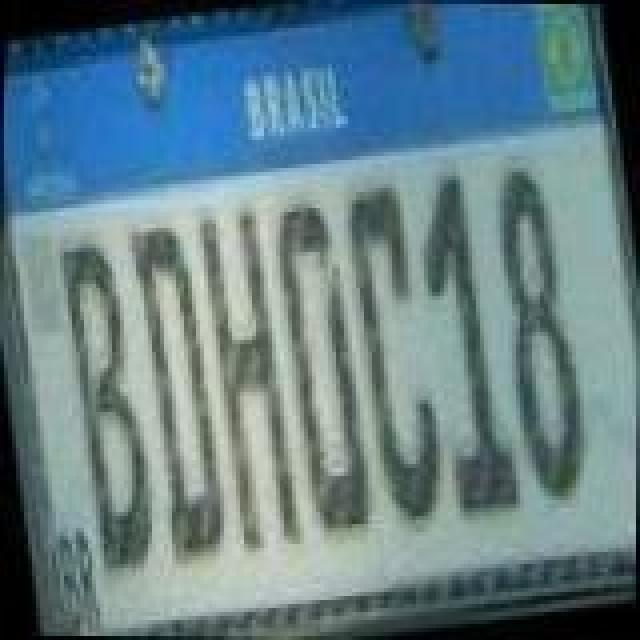1: (402, 170, 526, 522)
8: (478, 156, 602, 508)
B: (52, 234, 168, 574)
C: (336, 182, 456, 526)
D: (118, 220, 238, 568), (266, 198, 382, 538)
H: (190, 208, 310, 556)
